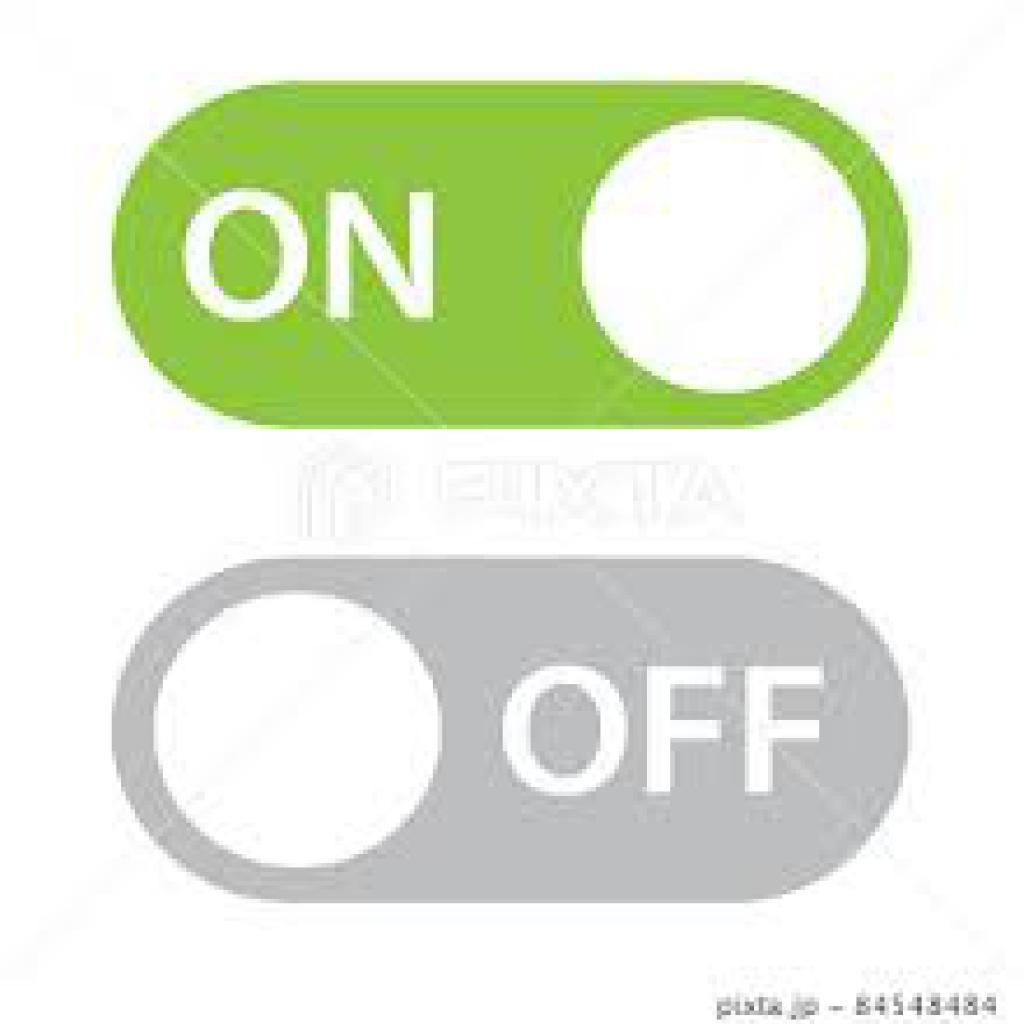switch: (116, 549, 915, 906), (111, 83, 917, 434)
